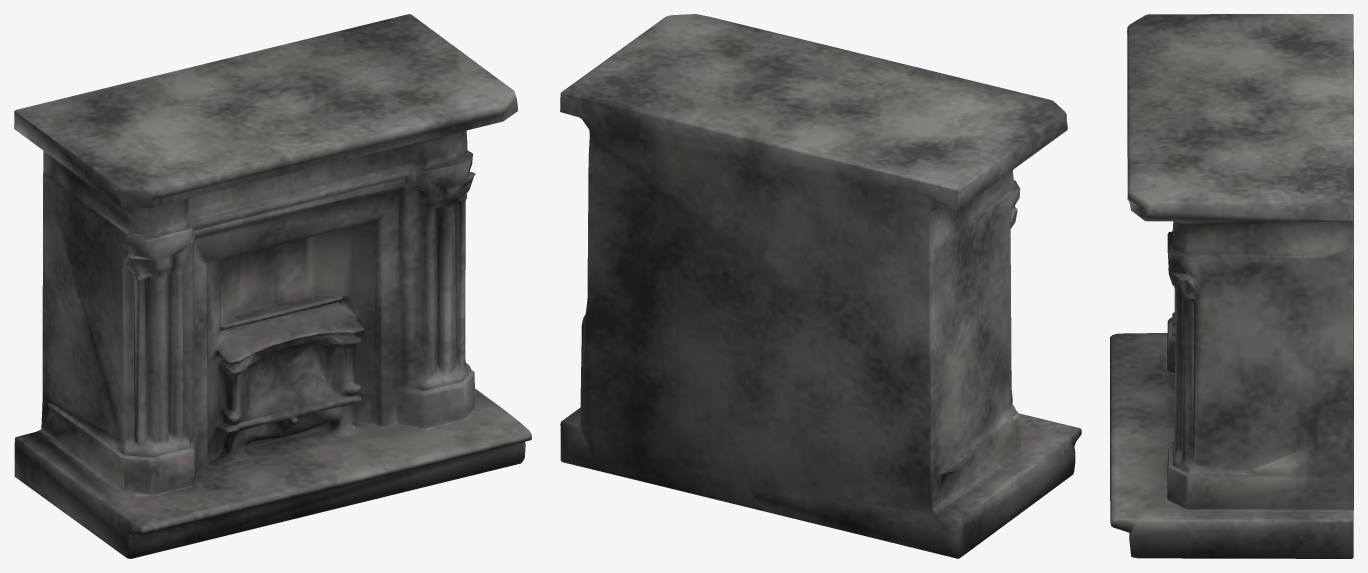
Rendered from old-granite-fireplace-v002.glb.
3 views of the same model, side by side, from view 1: azimuth 30°, elevation 25°; view 2: azimuth 150°, elevation 25°; view 3: azimuth 270°, elevation 25° (orthographic). The views are drawn at different scales.
Visible parts, largest first — view 1: old-granite-fireplace; view 2: old-granite-fireplace; view 3: old-granite-fireplace.
Boxes of the visible parts, <box> form: old-granite-fireplace: <box>14,14,531,558</box>; old-granite-fireplace: <box>560,14,1081,558</box>; old-granite-fireplace: <box>1110,14,1353,558</box>.
Bounding box in the file's own units: 1.95 × 1.72 × 1.06.
1 material, 1 textured.
